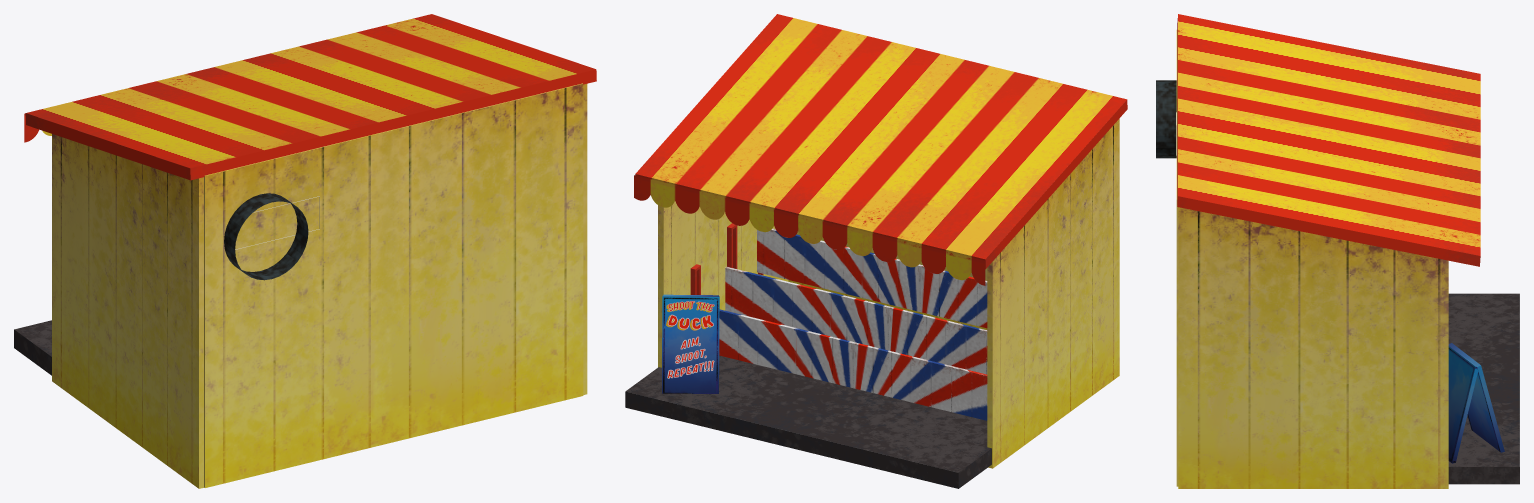
The model's file is decor.fbx.
The picture shows the model from 3 angles, left to right: view 1: azimuth 30°, elevation 25°; view 2: azimuth 150°, elevation 25°; view 3: azimuth 270°, elevation 25°; orthographic projection. The views are drawn at different scales.
Parts seen in each view (by area): view 1: mur fond, toit, mur droite, clock, mur gauche, sol; view 2: toit, mur droite, sol, Lieu, Lieu__1_, Lieu__2_, tissus, mur gauche, panneau, Cube.005, mur fond; view 3: mur gauche, toit, sol, panneau back, panneau, clock, mur fond.
Boxes of the visible parts, x1,y1,x2,y2 form: mur fond: (204, 83, 583, 487); toit: (25, 14, 596, 180); mur droite: (52, 134, 203, 488); clock: (224, 193, 308, 280); mur gauche: (583, 84, 587, 394); sol: (14, 320, 51, 375); toit: (635, 14, 1127, 269); mur droite: (987, 119, 1119, 468); sol: (625, 355, 991, 488); Lieu: (719, 309, 987, 420); Lieu__1_: (725, 267, 987, 374); Lieu__2_: (757, 228, 987, 328); tissus: (634, 175, 985, 285); mur gauche: (658, 201, 788, 367); panneau: (662, 295, 719, 393); Cube.005: (690, 223, 763, 294); mur fond: (788, 231, 987, 329); mur gauche: (1178, 207, 1448, 488); toit: (1177, 14, 1480, 266); sol: (1448, 293, 1519, 484); panneau back: (1448, 345, 1478, 463); panneau: (1448, 343, 1504, 452); clock: (1156, 80, 1176, 158); mur fond: (1176, 30, 1178, 486).
Bounding box in the file's own units: 640 × 485 × 538.
